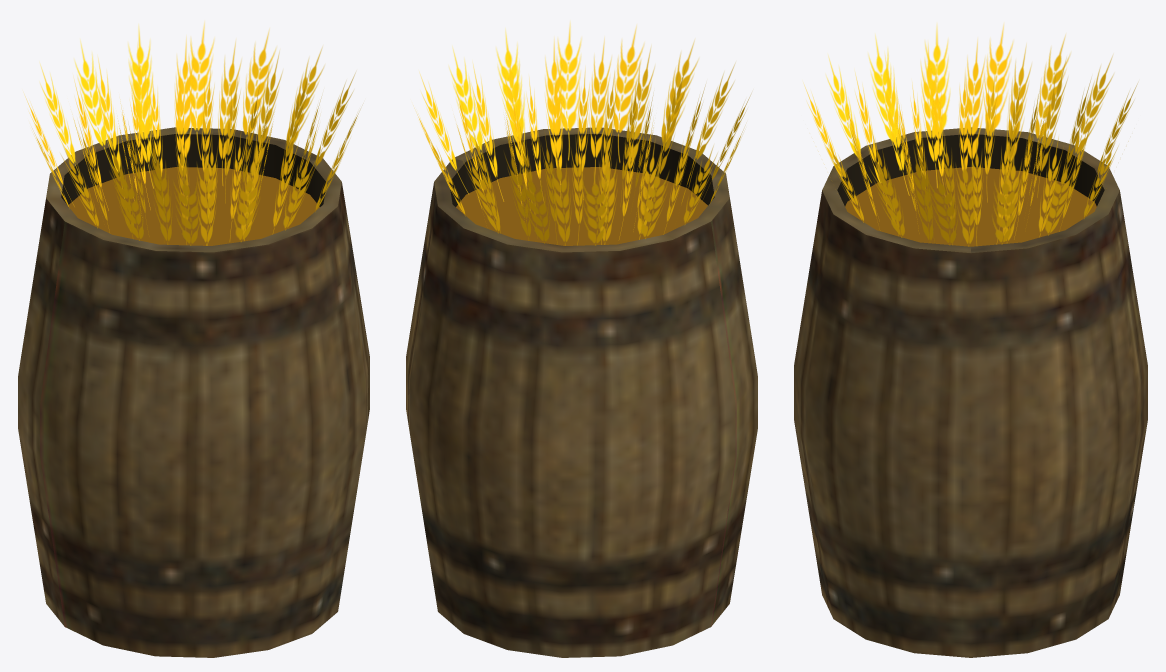
The model's file is 1ecf3fd7-53b0-4eab-98f0-05fd2736f5be.glb.
The picture shows the model from 3 angles, left to right: view 1: azimuth 30°, elevation 25°; view 2: azimuth 150°, elevation 25°; view 3: azimuth 270°, elevation 25°; orthographic projection.
Visible parts, largest first — view 1: BarrelOfHay; view 2: BarrelOfHay; view 3: BarrelOfHay.
Boxes of the visible parts, x1=… form: BarrelOfHay: x1=18, y1=22, x2=369, y2=657; BarrelOfHay: x1=406, y1=22, x2=757, y2=657; BarrelOfHay: x1=794, y1=24, x2=1147, y2=657.
Size of what is drawn, in the model's own units: 0.9527 by 1.48 by 0.9527.
Materials: 2 (2 with a texture image).
